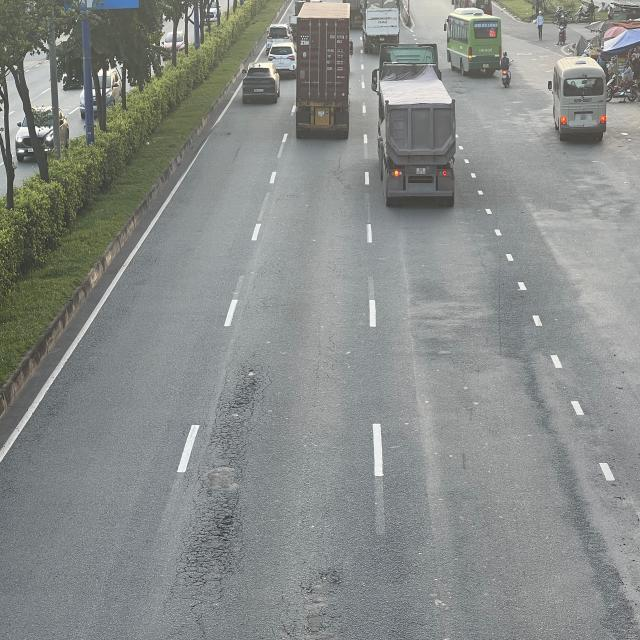car: (244, 62, 283, 105), (266, 41, 298, 79)
coach: (548, 57, 606, 140), (446, 8, 506, 74)
container: (374, 45, 458, 212), (294, 4, 350, 139)
truck: (363, 0, 400, 50)
